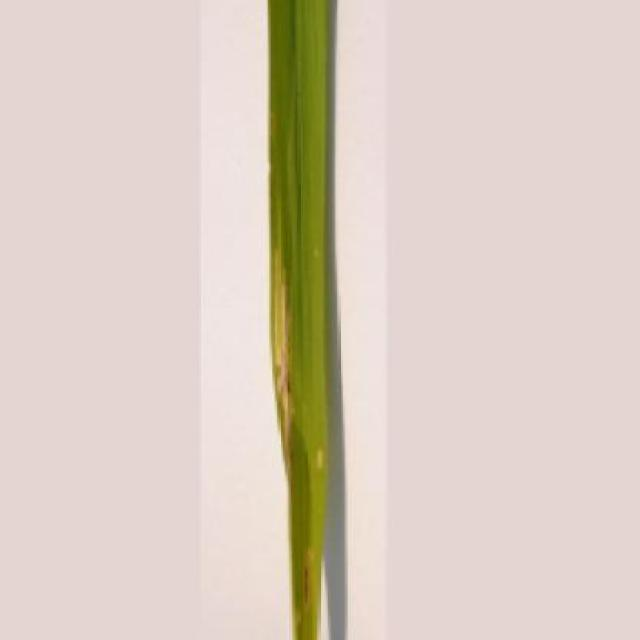Brown_Spot: (259, 0, 338, 640)
